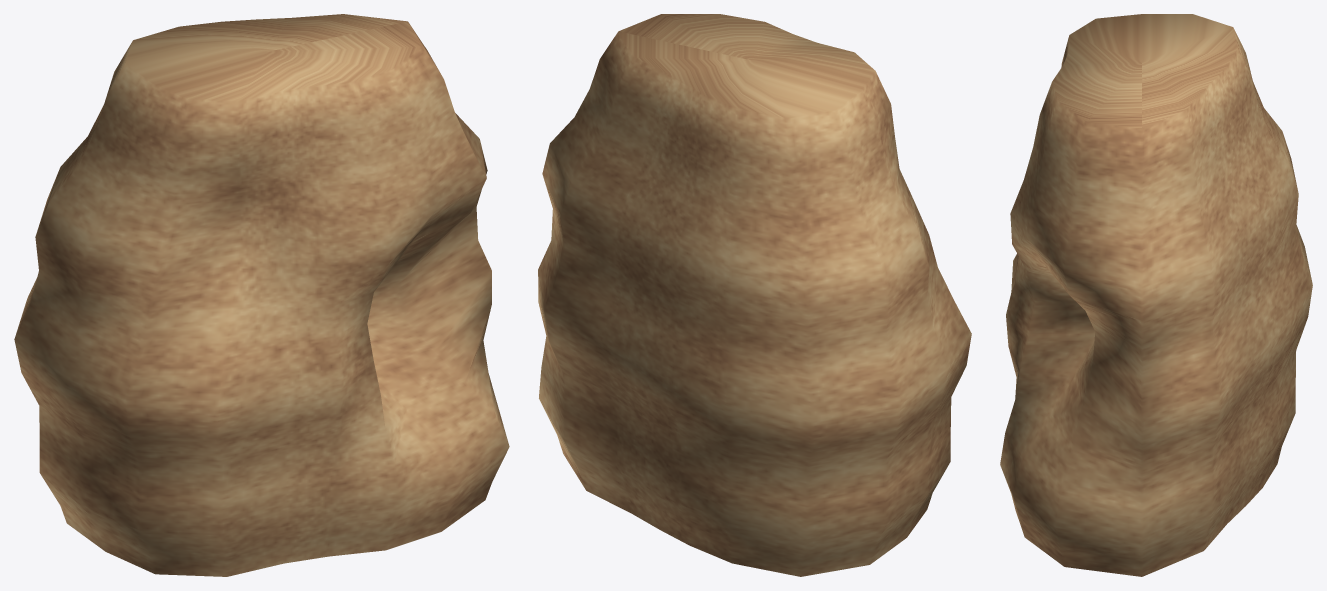
Rendered from rock_desert_carved_a.glb.
3 renders of one model, left to right at view 1: azimuth 30°, elevation 25°; view 2: azimuth 150°, elevation 25°; view 3: azimuth 270°, elevation 25°, orthographic. The views are drawn at different scales.
Visible parts, largest first — view 1: rock_desert_carved_a; view 2: rock_desert_carved_a; view 3: rock_desert_carved_a.
Part boxes in pixels (x1,y1,x2,y2): rock_desert_carved_a: [14, 14, 509, 576]; rock_desert_carved_a: [538, 14, 971, 576]; rock_desert_carved_a: [1000, 14, 1312, 576].
Bounding box in the file's own units: 2.46 × 2.52 × 1.68.
Materials: 1 (1 with a texture image).
